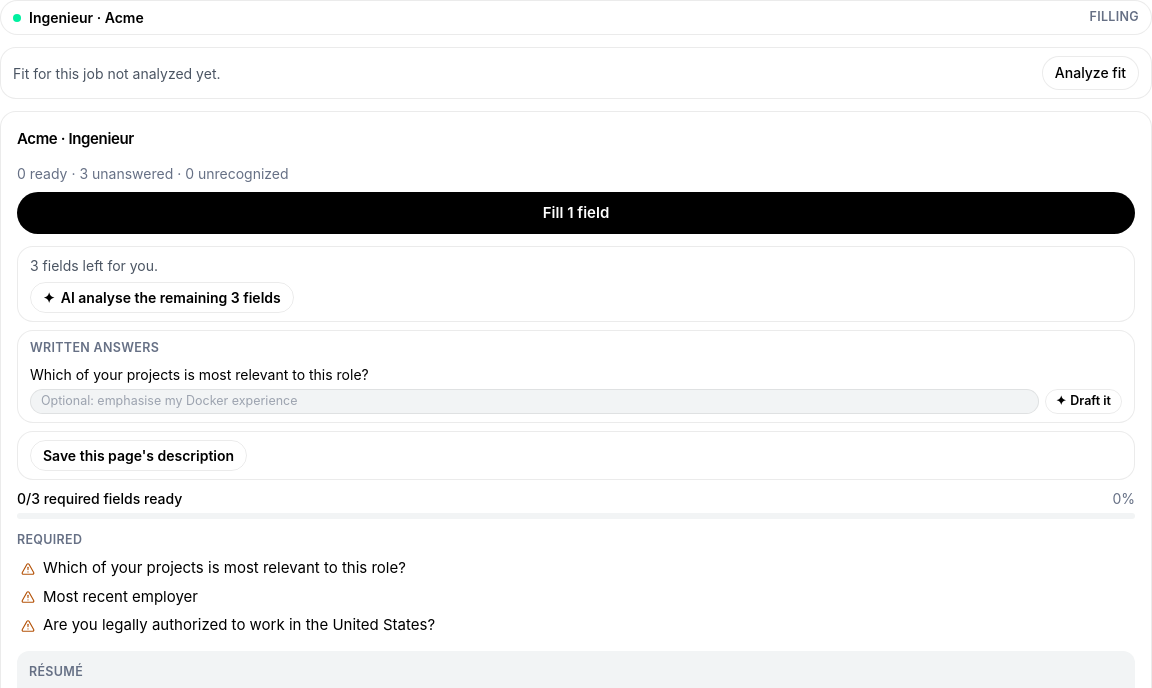
Test case: what comes back › shows a refusal from the server instead of looking like it worked
expect the text "Ingenieur · Acme" is shown: met, box x1=29 y1=9 x2=144 y2=26
Click the button "✦ AI analyse the remaining 3 fields" at (162, 298), box x1=30 y1=282 x2=294 y2=313
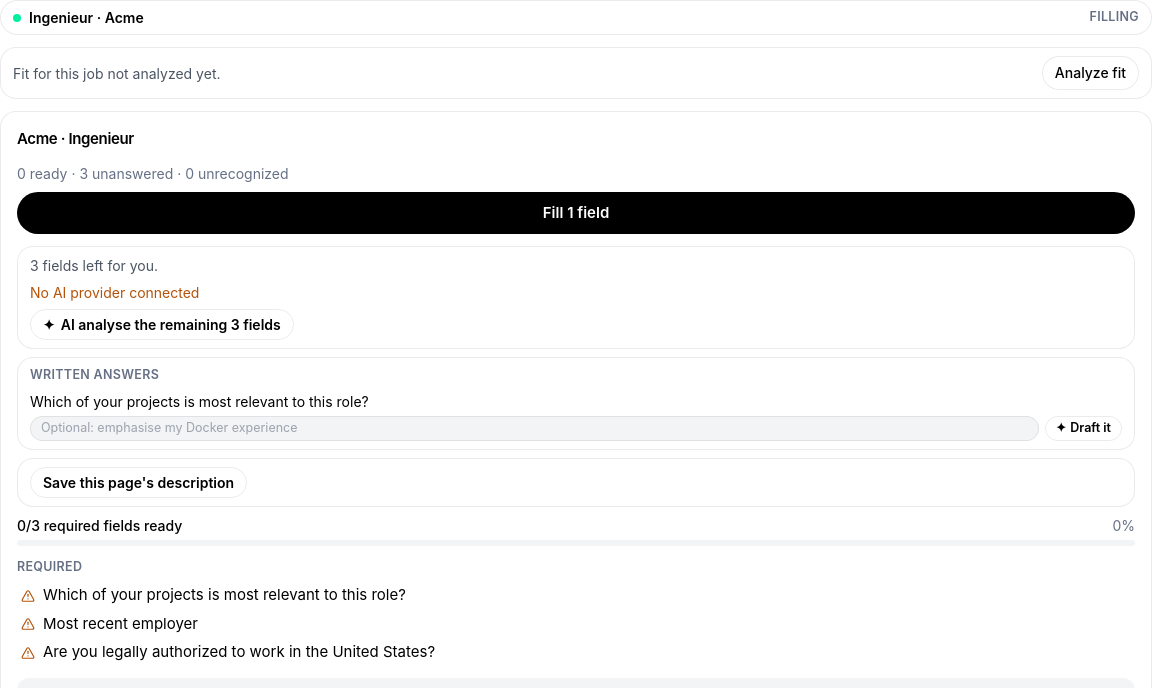
expect the text "No AI provider connected" is shown: met, box x1=30 y1=284 x2=200 y2=301
